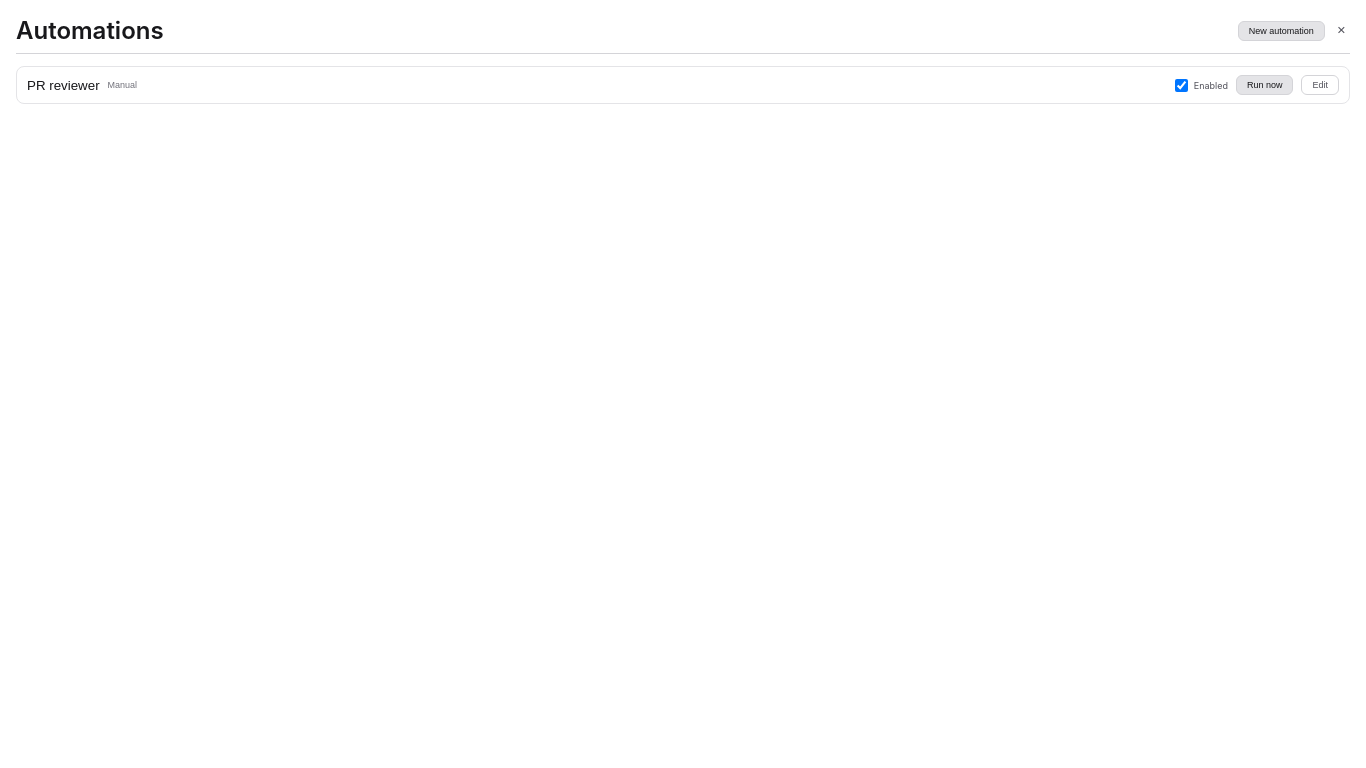
Test: AutomationsPanel › form overlay › opens an existing definition via its row's Edit button, loading and showing that definition
Click the button with test id "automation-edit-d1": (1320, 85) [1302,75,1339,95]
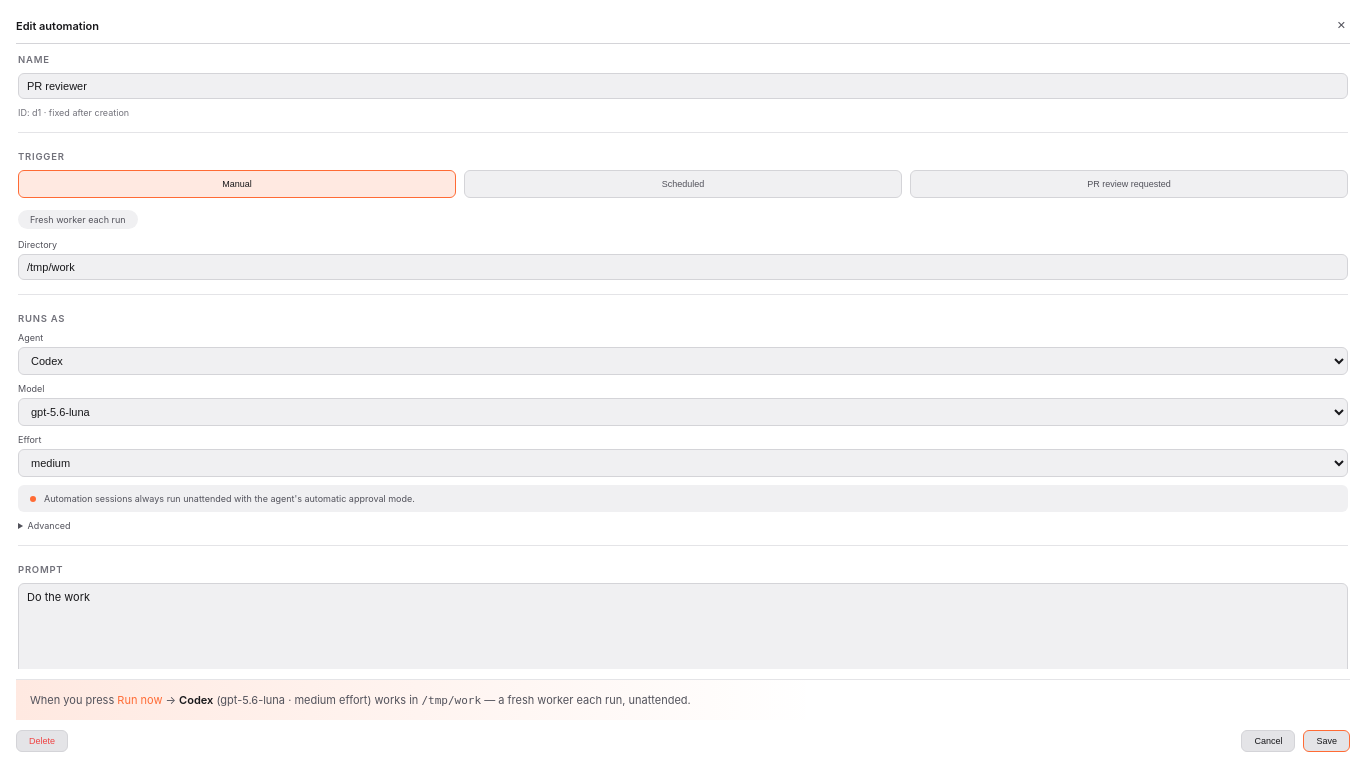
Result: the field with test id "automation-form-name" holds "PR reviewer" at [18,73,1348,99]
